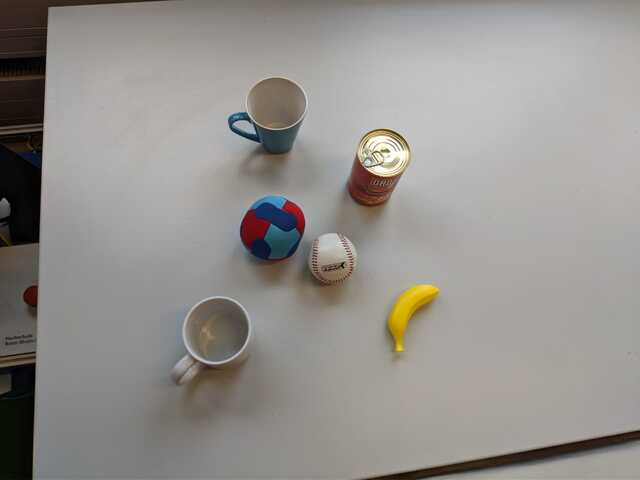005_tomato_soup_can: (346, 128, 412, 207)
011_banana: (386, 285, 440, 354)
025_mug: (170, 296, 252, 386), (228, 75, 308, 155)
055_baseball: (306, 232, 357, 285)
057_racquetball: (239, 194, 305, 261)
